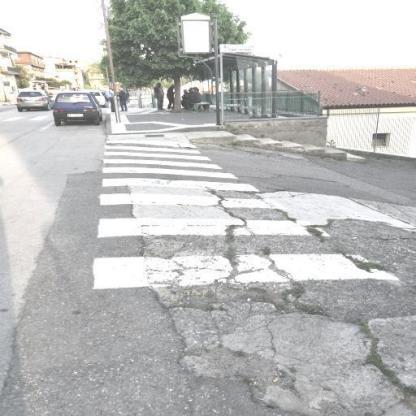crosswalk: (85, 177, 299, 214), (100, 146, 218, 162)
